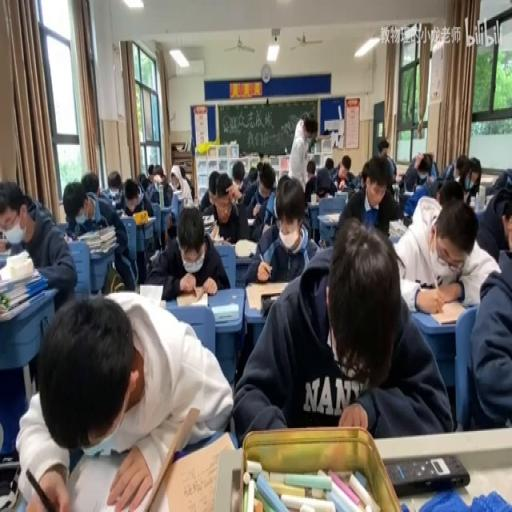calculator: (426, 299, 468, 324), (176, 287, 209, 306), (138, 282, 164, 304), (210, 302, 238, 322), (234, 236, 256, 256), (90, 244, 116, 258), (208, 223, 225, 243), (76, 226, 101, 239), (387, 219, 406, 236), (97, 225, 115, 239), (0, 248, 10, 267), (324, 212, 341, 222), (202, 213, 214, 225), (0, 239, 10, 253), (149, 248, 158, 263), (170, 189, 181, 201), (62, 232, 72, 243), (395, 170, 405, 180), (334, 189, 346, 196), (402, 189, 414, 196), (117, 210, 127, 218), (246, 216, 254, 225), (310, 193, 318, 202)
paper: (234, 217, 448, 441), (18, 288, 232, 510), (392, 192, 498, 311), (0, 181, 77, 317), (242, 173, 318, 286), (147, 205, 228, 300), (66, 175, 132, 291), (355, 152, 400, 236), (118, 176, 152, 230), (398, 151, 434, 192), (146, 165, 174, 208), (335, 190, 364, 230), (459, 155, 482, 203), (198, 166, 219, 210), (435, 179, 465, 209), (484, 167, 511, 199), (333, 156, 356, 192), (240, 158, 259, 193), (106, 169, 124, 205), (315, 166, 336, 196), (435, 155, 456, 183), (80, 169, 99, 199), (303, 160, 317, 200), (257, 161, 275, 192), (178, 165, 194, 198), (501, 209, 511, 248), (360, 160, 370, 184), (304, 117, 317, 135), (307, 134, 318, 154), (138, 172, 149, 191), (378, 138, 390, 154), (430, 159, 438, 178), (390, 159, 396, 181), (324, 156, 334, 168), (147, 162, 154, 176), (256, 160, 262, 174), (154, 169, 160, 182), (258, 152, 264, 161)
person: (386, 454, 470, 496), (0, 460, 21, 506), (259, 293, 279, 314), (402, 215, 412, 226)
